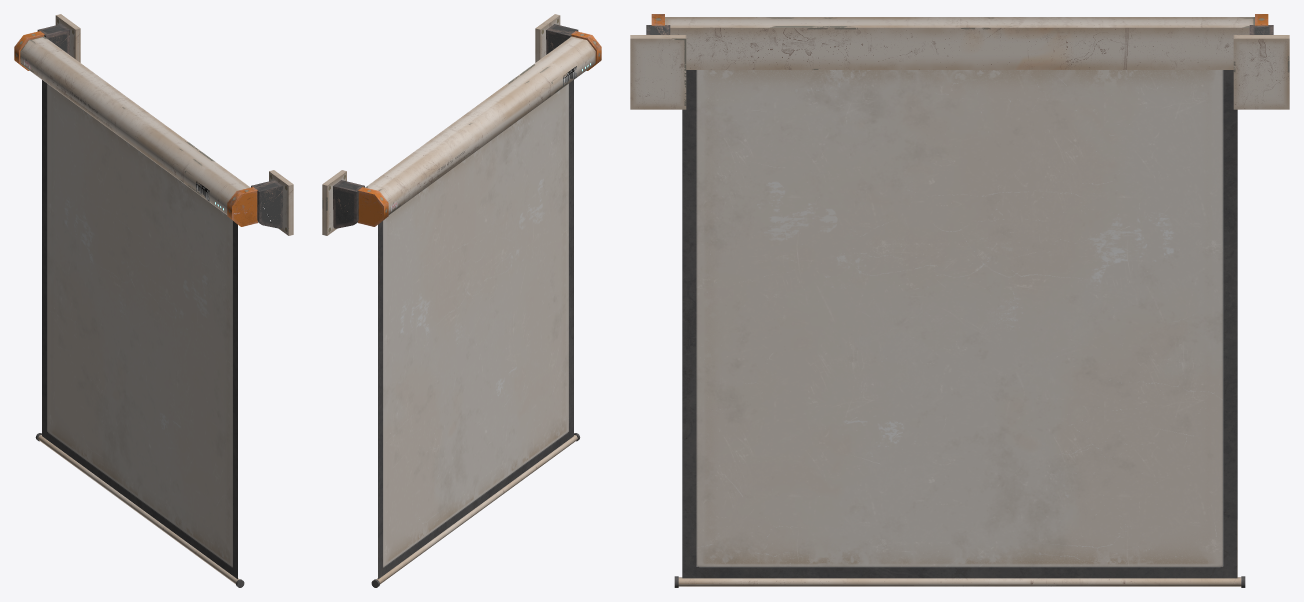
The model's file is SM_Projector_Screen_01a.fbx.
The picture shows the model from 3 angles, left to right: view 1: azimuth 30°, elevation 25°; view 2: azimuth 150°, elevation 25°; view 3: azimuth 270°, elevation 25°; orthographic projection. The views are drawn at different scales.
Parts seen in each view (by area): view 1: SM_Projector_Screen_01a_LOD0; view 2: SM_Projector_Screen_01a_LOD0; view 3: SM_Projector_Screen_01a_LOD0.
Boxes of the visible parts, x1,y1,x2,y2 form: SM_Projector_Screen_01a_LOD0: (14, 14, 293, 587); SM_Projector_Screen_01a_LOD0: (322, 14, 601, 587); SM_Projector_Screen_01a_LOD0: (630, 14, 1289, 587).
Bounding box in the file's own units: 28.78 × 214 × 206.
